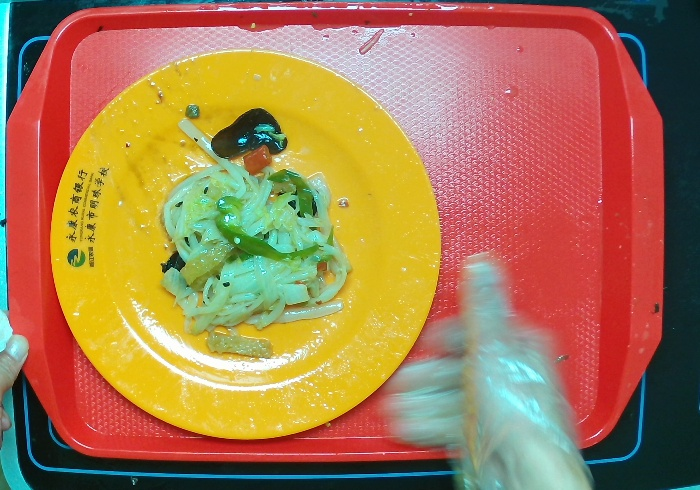YKMZ-Ju_Se_Mian_Pan: (48, 46, 444, 441)
